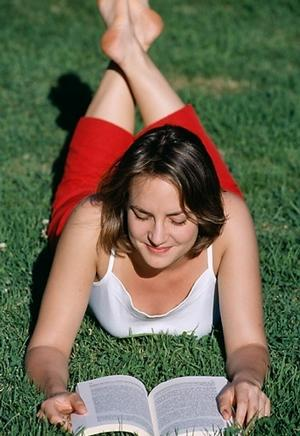person: (25, 3, 273, 436)
